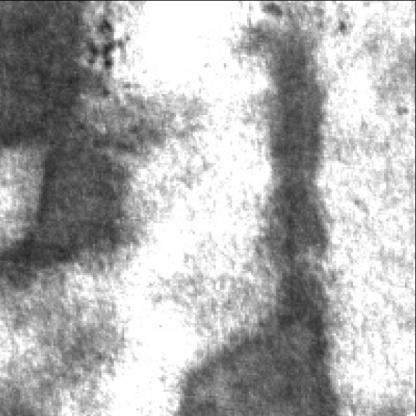patches: (0, 10, 154, 308), (243, 25, 331, 379), (177, 324, 329, 416)
